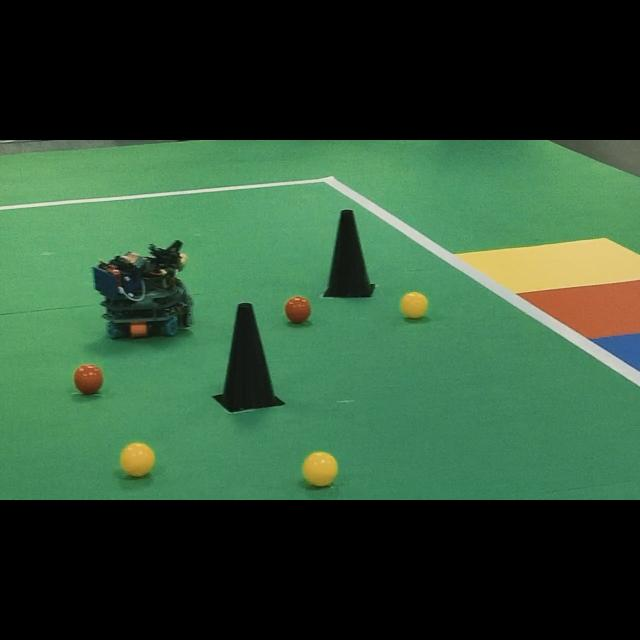ball: (302, 452, 338, 486), (121, 442, 155, 476), (74, 364, 102, 395), (401, 292, 428, 318), (285, 296, 311, 322)
goal: (456, 238, 640, 294), (520, 280, 640, 339), (591, 334, 640, 371)
